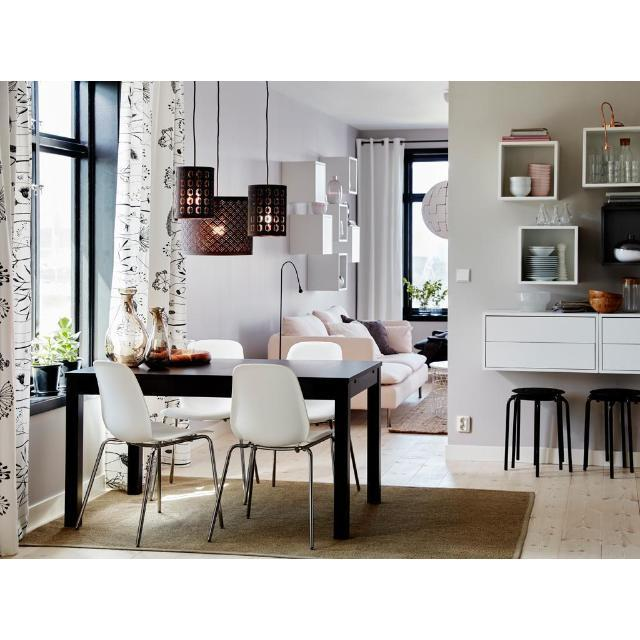chair: (75, 361, 219, 547), (208, 365, 334, 549)
light: (184, 81, 252, 255), (248, 81, 286, 236), (174, 165, 214, 218), (192, 81, 196, 158)
rug: (20, 477, 534, 558)
table: (65, 358, 381, 539)
